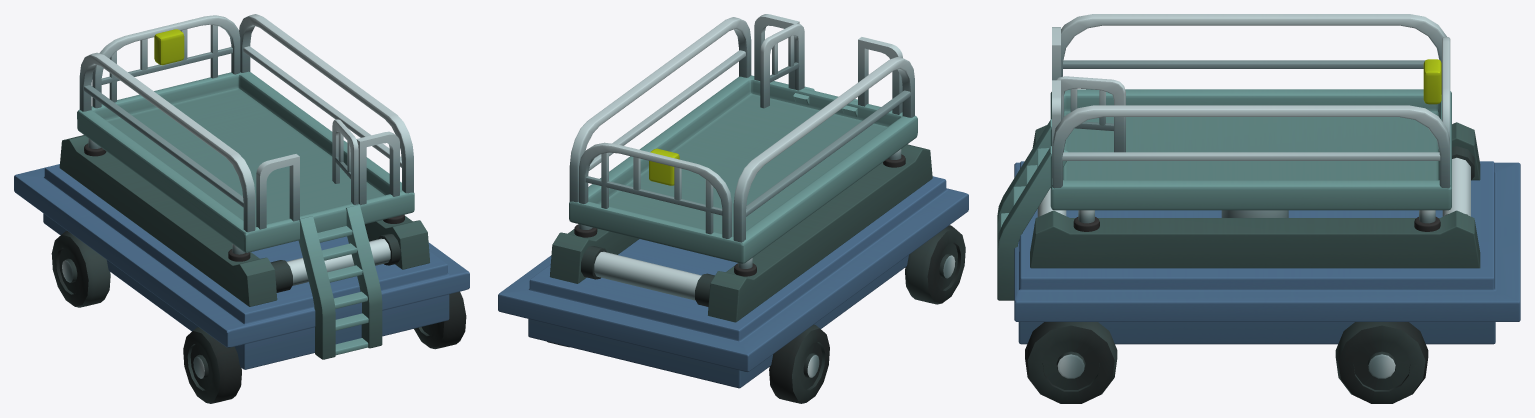
Rendered from SM_Construction_Lift.fbx.
The picture shows the model from 3 angles, left to right: view 1: azimuth 30°, elevation 25°; view 2: azimuth 150°, elevation 25°; view 3: azimuth 270°, elevation 25°; orthographic projection. The views are drawn at different scales.
Parts seen in each view (by area): view 1: polySurface36; view 2: polySurface36; view 3: polySurface36.
Part boxes in pixels (x1,y1,x2,y2): polySurface36: (14,14,469,403); polySurface36: (498,14,968,403); polySurface36: (997,14,1520,403).
Bounding box in the file's own units: 415 × 362 × 630.
